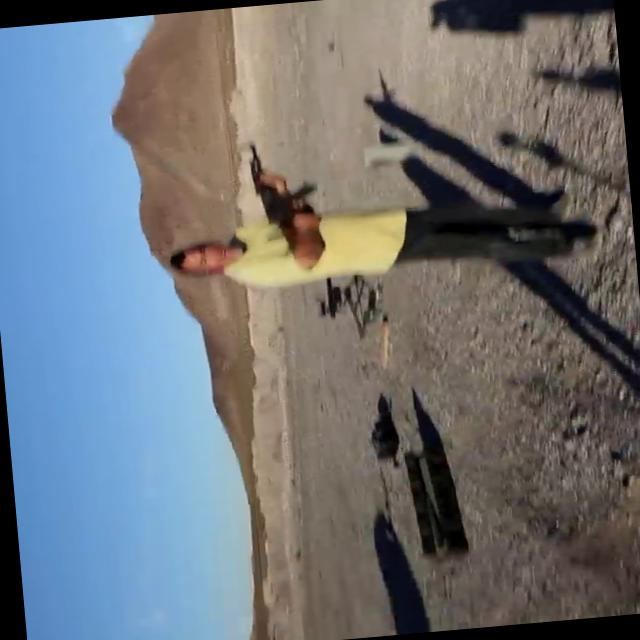long weapon: (232, 137, 316, 256)
